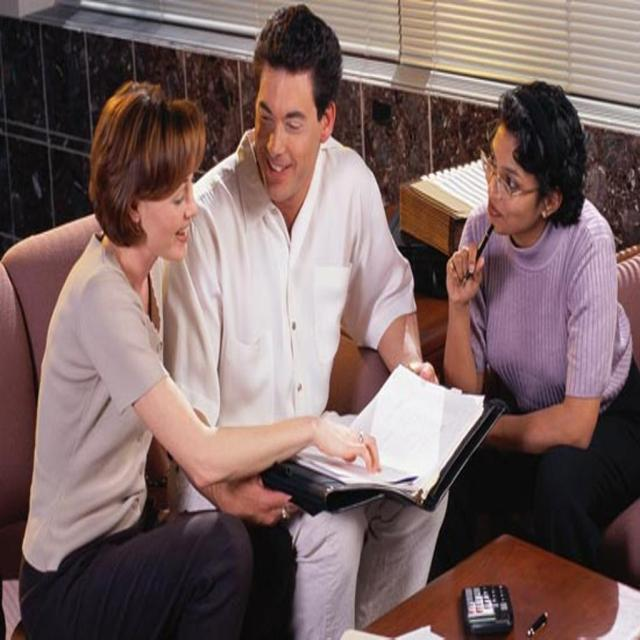Face: (253, 56, 329, 209), (477, 122, 535, 236), (155, 158, 201, 261)
